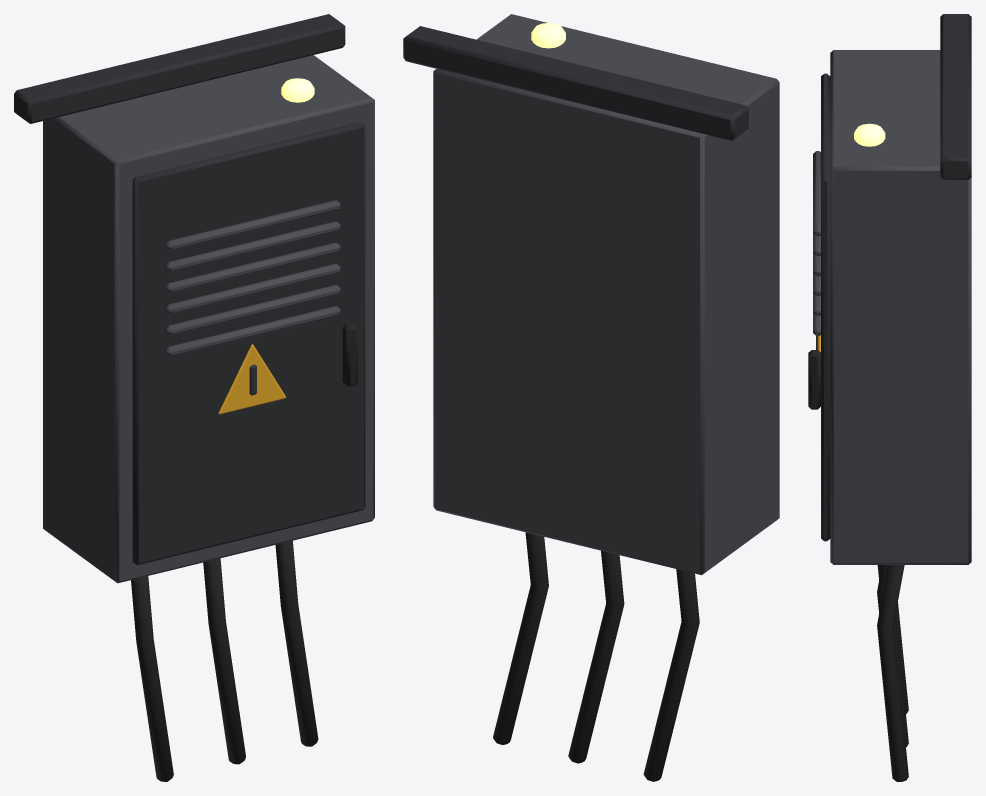
File: Tech_Box.glb
3 views of the same model, side by side, from view 1: azimuth 30°, elevation 25°; view 2: azimuth 150°, elevation 25°; view 3: azimuth 270°, elevation 25° (orthographic). The views are drawn at different scales.
Visible parts, largest first — view 1: Tech_Box; view 2: Tech_Box; view 3: Tech_Box.
Boxes of the visible parts, bbox=[...] form: Tech_Box: bbox=[14, 14, 374, 781]; Tech_Box: bbox=[403, 14, 779, 781]; Tech_Box: bbox=[808, 14, 971, 781].
Size of the model in its own units: 1.1 by 2.28 by 0.52.
